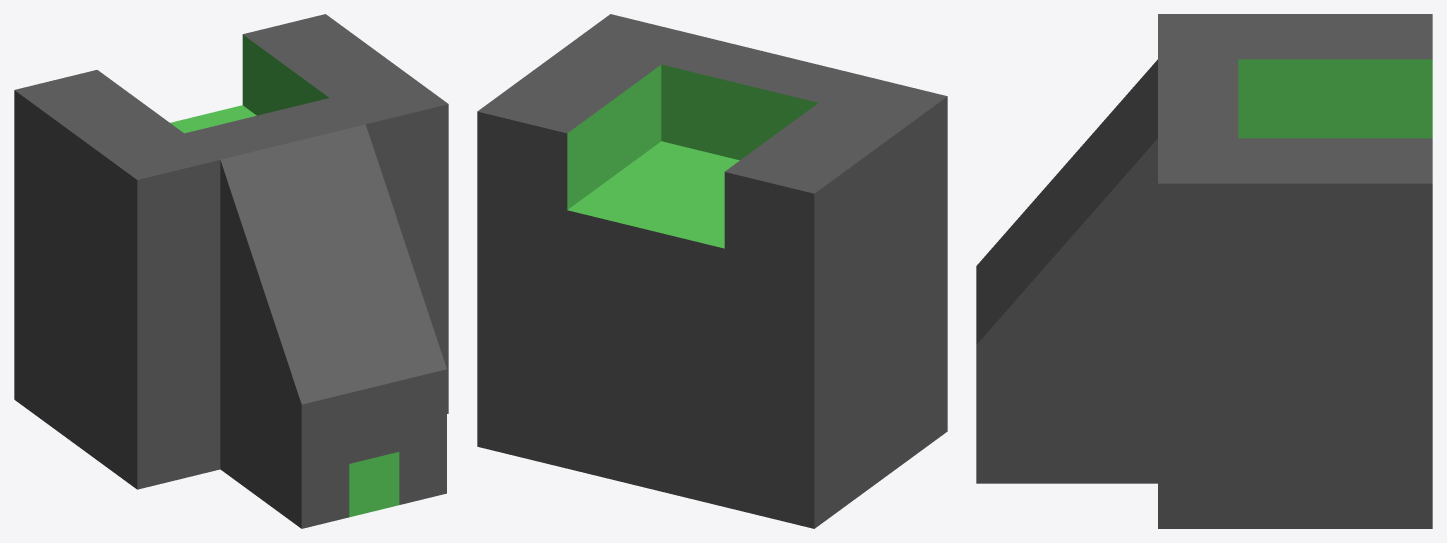
The model's file is batterySocket.dae.
The picture shows the model from 3 angles, left to right: view 1: azimuth 30°, elevation 25°; view 2: azimuth 150°, elevation 25°; view 3: azimuth 270°, elevation 25°; orthographic projection. The views are drawn at different scales.
Visible parts, largest first — view 1: Cube; view 2: Cube; view 3: Cube.
Part boxes in pixels (box(x1,y1,x2,y2)): Cube: box(14, 14, 448, 528); Cube: box(477, 14, 947, 528); Cube: box(976, 14, 1432, 528).
Size of the model in its own units: 1.12 by 1.27 by 1.06.
